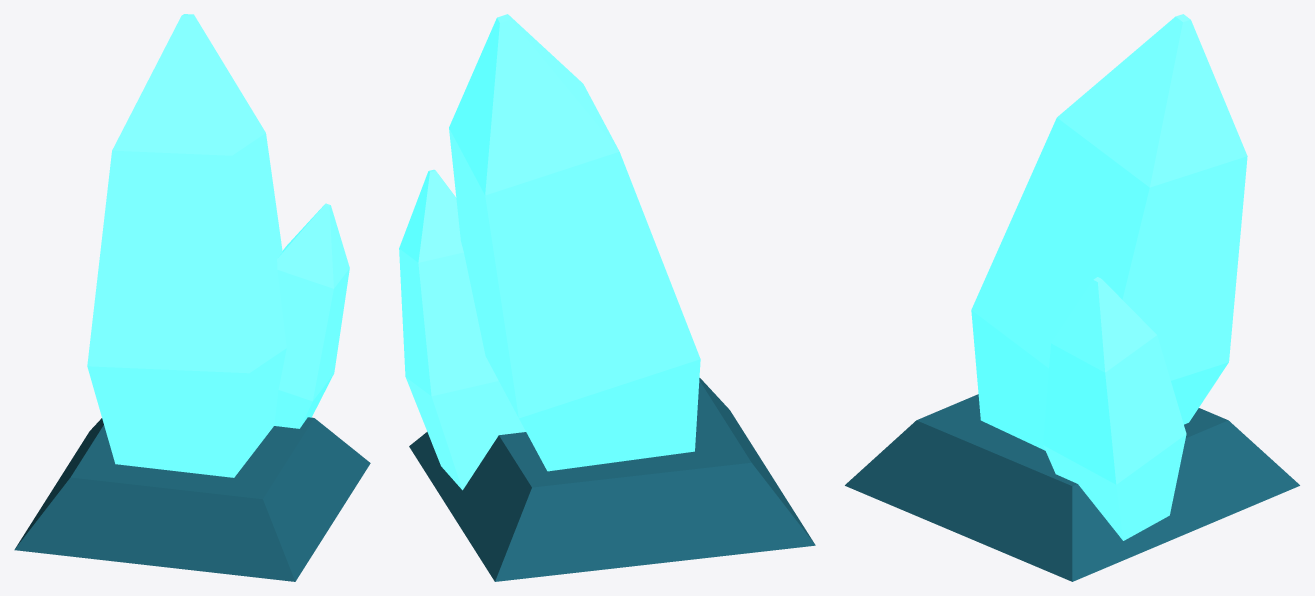
The model's file is SM_Prop_LiftStone_LQ.glb.
3 renders of one model, left to right at view 1: azimuth 30°, elevation 25°; view 2: azimuth 150°, elevation 25°; view 3: azimuth 270°, elevation 25°, orthographic. The views are drawn at different scales.
Visible parts, largest first — view 1: SM_Prop_LiftStone_LQ; view 2: SM_Prop_LiftStone_LQ; view 3: SM_Prop_LiftStone_LQ.
Boxes of the visible parts, x1,y1,x2,y2 form: SM_Prop_LiftStone_LQ: (14, 14, 370, 581); SM_Prop_LiftStone_LQ: (399, 14, 815, 581); SM_Prop_LiftStone_LQ: (845, 14, 1299, 581).
Size of the model in its own units: 0.76 by 0.9334 by 0.76.
1 material, 1 textured.
